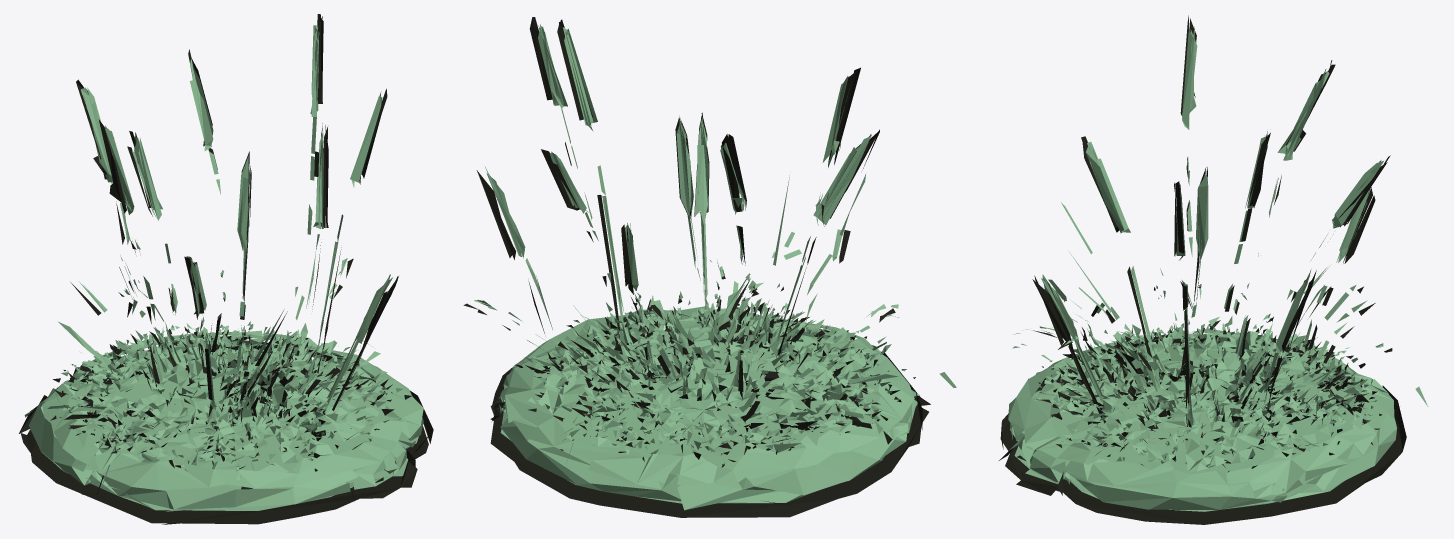
Rendered from df_v2_water_edge_decor_d_a.glb.
The picture shows the model from 3 angles, left to right: view 1: azimuth 30°, elevation 25°; view 2: azimuth 150°, elevation 25°; view 3: azimuth 270°, elevation 25°; orthographic projection. The views are drawn at different scales.
Parts seen in each view (by area): view 1: water_edge_decor_d_mesh_01, water_edge_decor_d_mesh_01_ink_outline; view 2: water_edge_decor_d_mesh_01, water_edge_decor_d_mesh_01_ink_outline; view 3: water_edge_decor_d_mesh_01, water_edge_decor_d_mesh_01_ink_outline.
Part boxes in pixels (left/top/right/bottom): water_edge_decor_d_mesh_01: left=24, top=25, right=423, bottom=511; water_edge_decor_d_mesh_01_ink_outline: left=19, top=14, right=433, bottom=524; water_edge_decor_d_mesh_01: left=474, top=24, right=956, bottom=510; water_edge_decor_d_mesh_01_ink_outline: left=463, top=17, right=930, bottom=517; water_edge_decor_d_mesh_01: left=1008, top=25, right=1427, bottom=511; water_edge_decor_d_mesh_01_ink_outline: left=999, top=15, right=1406, bottom=524.
Bounding box in the file's own units: 0.6029 × 0.5897 × 0.625.
